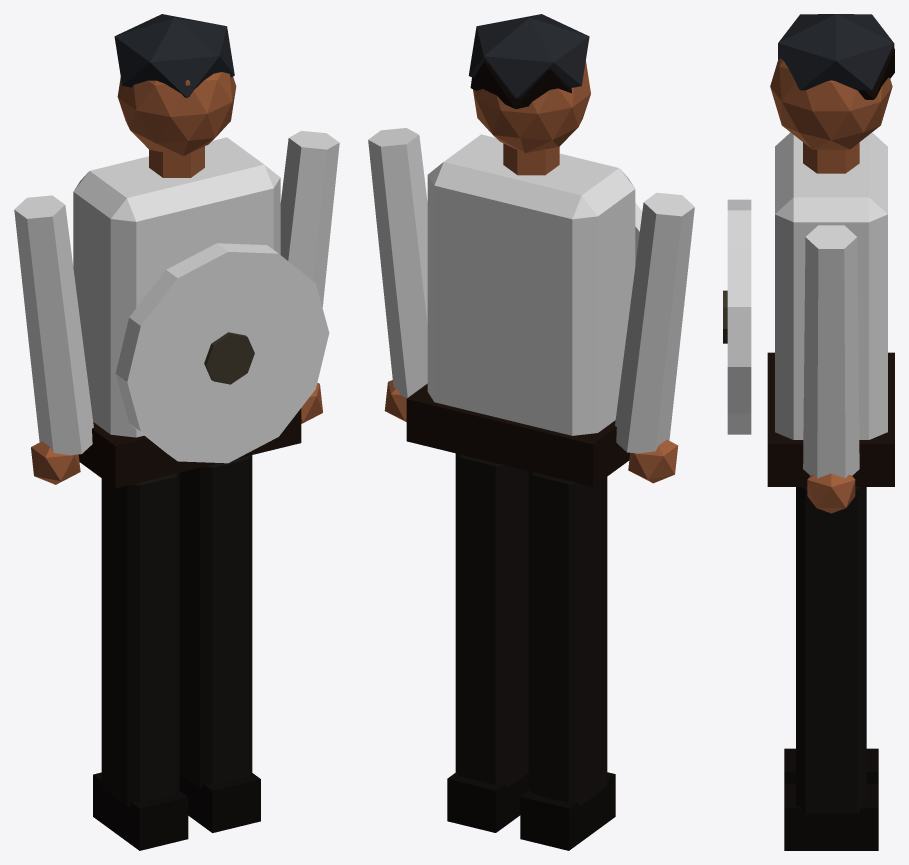
The model's file is person_sworn.fbx.
3 renders of one model, left to right at view 1: azimuth 30°, elevation 25°; view 2: azimuth 150°, elevation 25°; view 3: azimuth 270°, elevation 25°, orthographic.
Visible parts, largest first — view 1: person_sworn; view 2: person_sworn; view 3: person_sworn.
Boxes of the visible parts, bbox=[...] form: person_sworn: bbox=[14, 14, 339, 850]; person_sworn: bbox=[368, 14, 694, 850]; person_sworn: bbox=[723, 14, 894, 850].
Size of the model in its own units: 0.7734 by 1.89 by 0.365.
